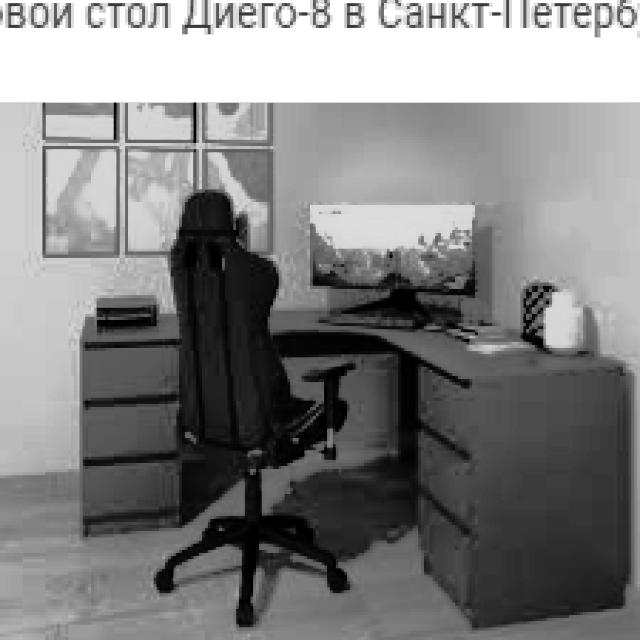book: (154, 186, 352, 624)
table: (77, 304, 631, 628)
